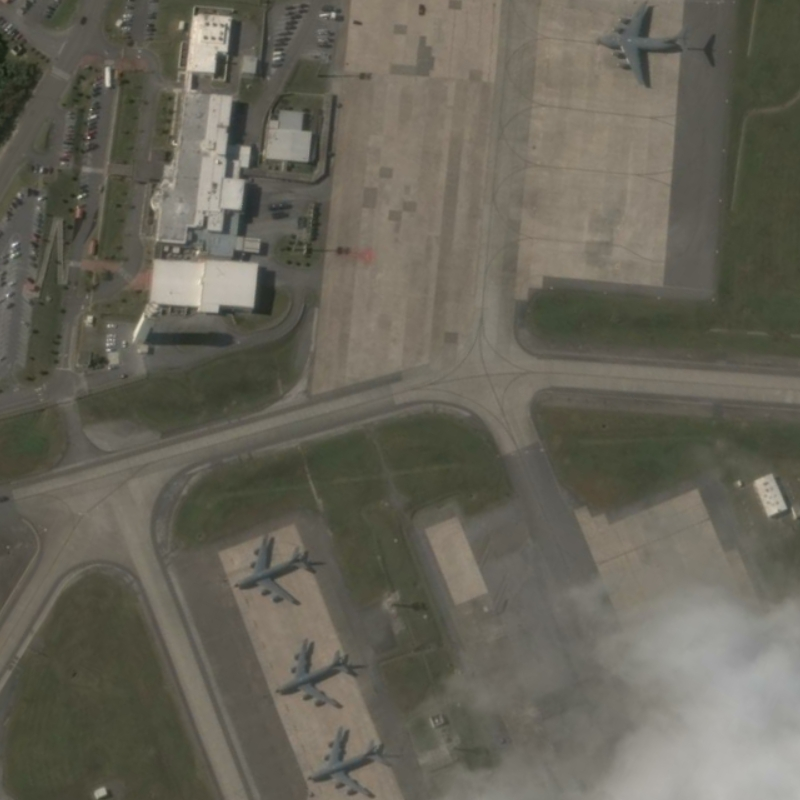A14: (226, 526, 316, 609), (270, 633, 360, 712), (302, 722, 388, 800)
A3: (584, 1, 696, 94)
